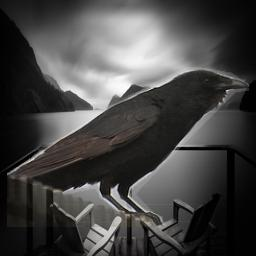Crow: (7, 67, 249, 227)
